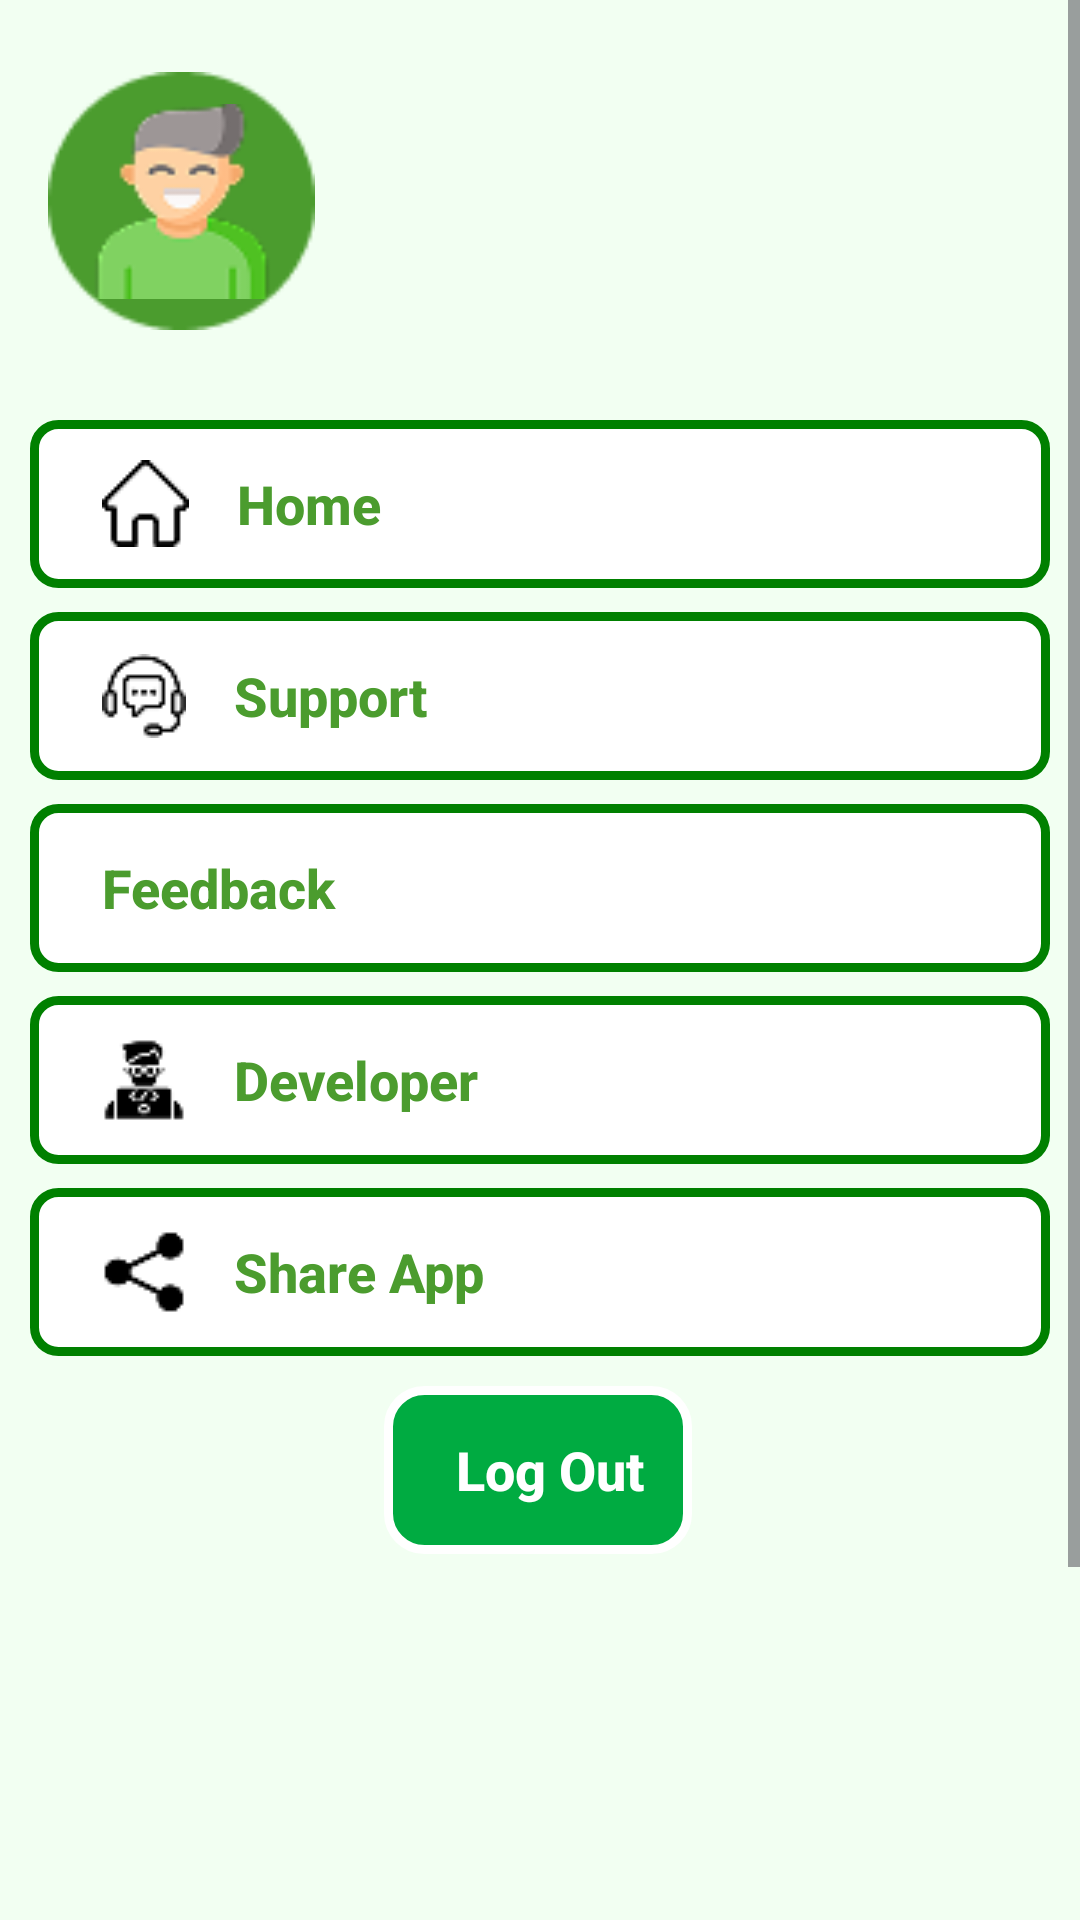

Point at icon controls on the screen. Image size 1080x1920, points as [x,y].
User profile icon: [182,201]
